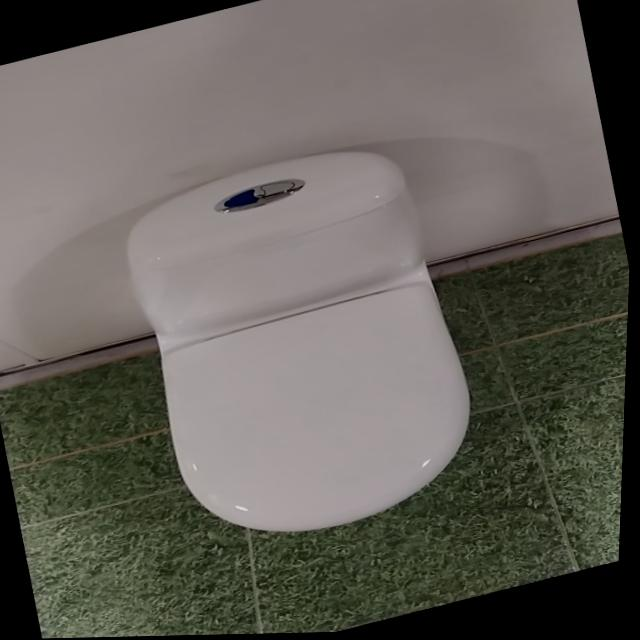toilet: (105, 125, 504, 566)
